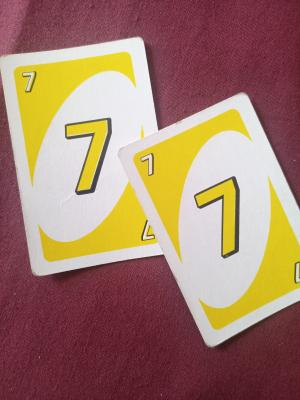num_7: (183, 169, 259, 267), (51, 116, 118, 205), (11, 67, 73, 98)
yellow: (118, 218, 176, 243)
